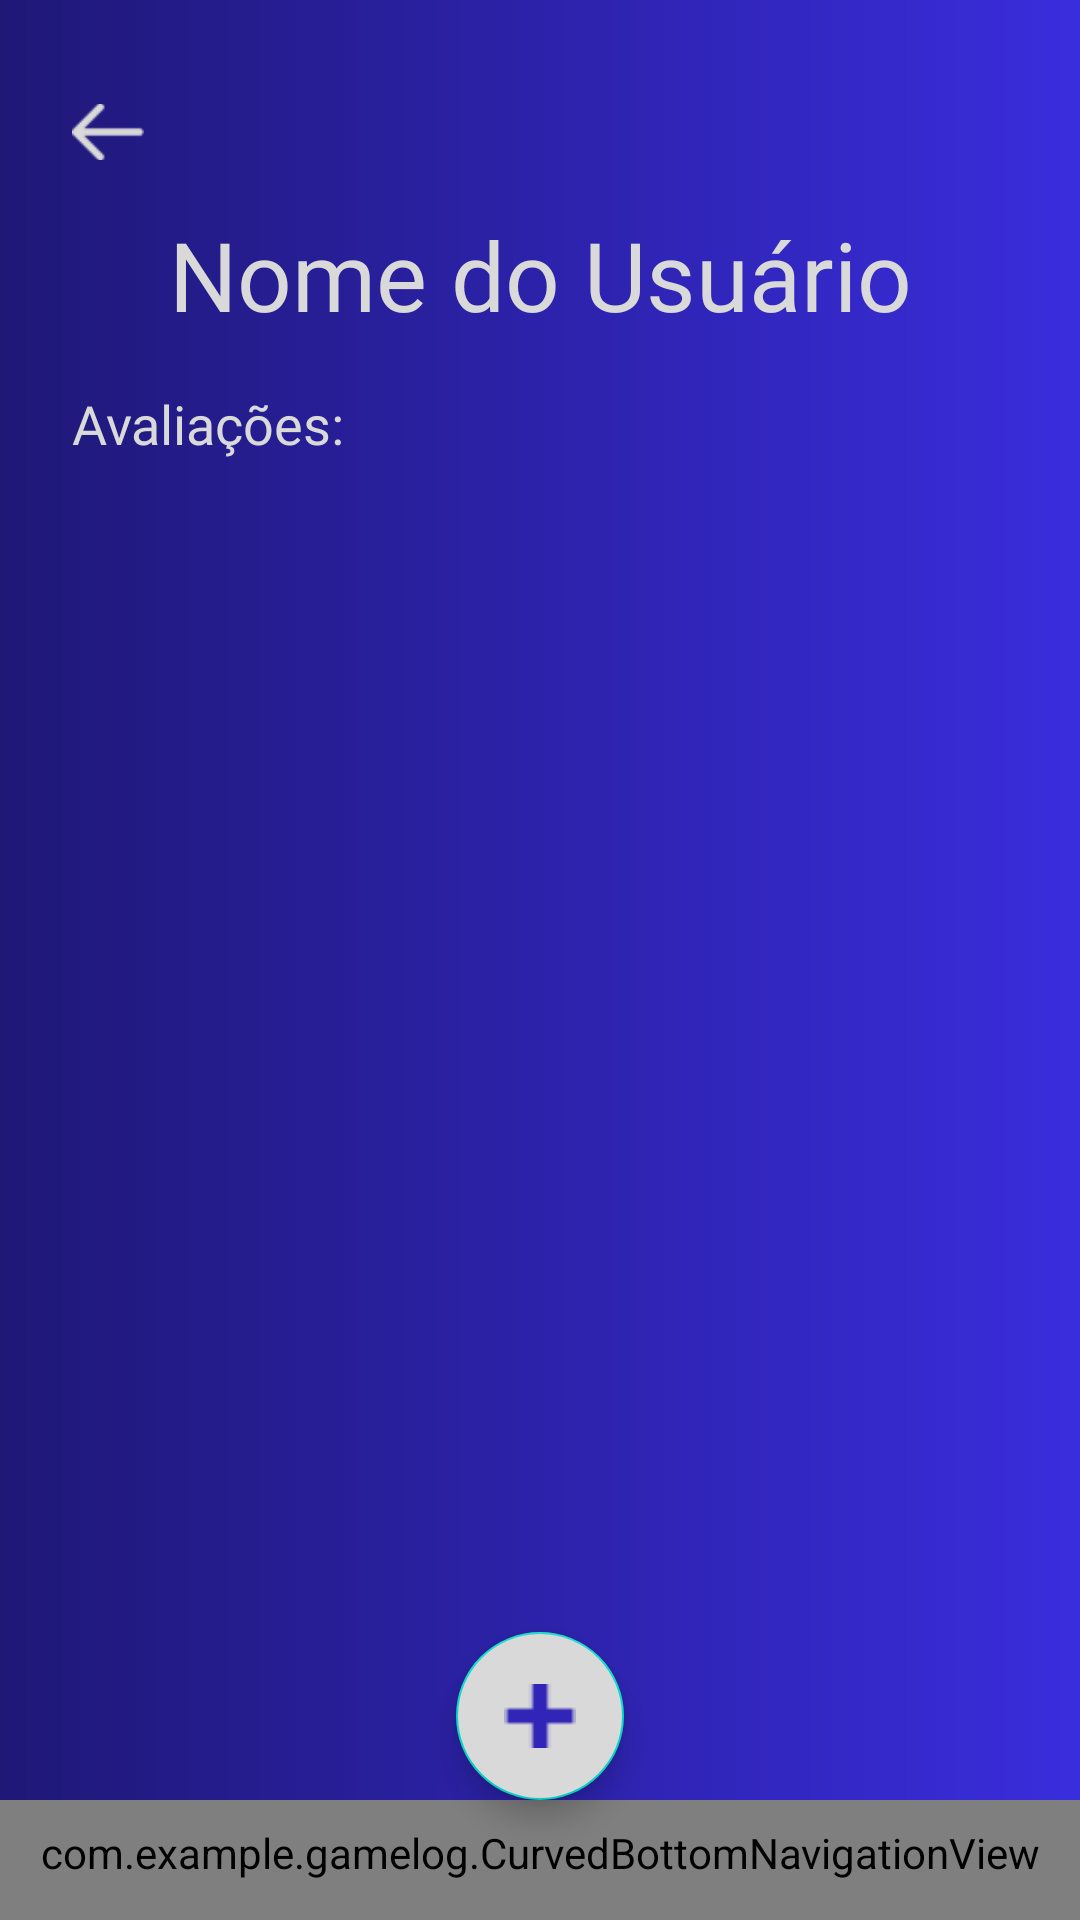

Named icons in this screenshot (1080×1920) and their bounding boxes, (x1, y1, x2, y2):
Nova Avaliação: (456, 1632, 624, 1800)
Voltar: (72, 104, 144, 160)
